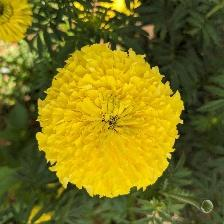marigold: (36, 43, 186, 198)
